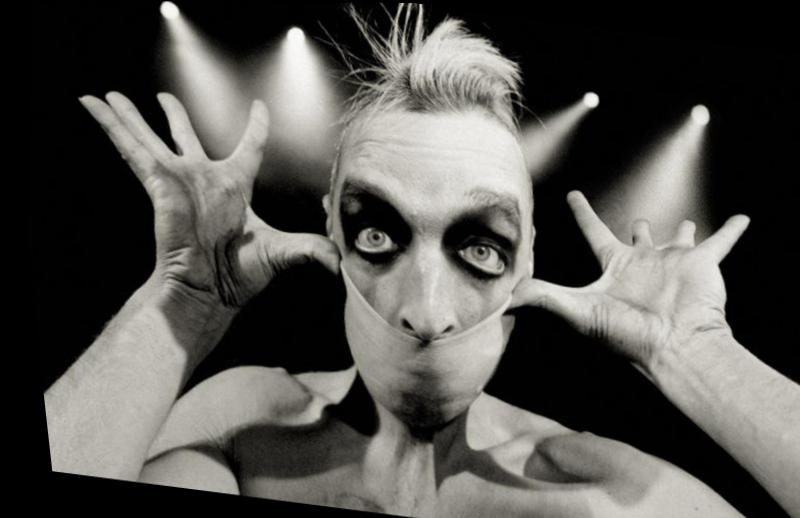WRONG: (311, 183, 535, 399)
